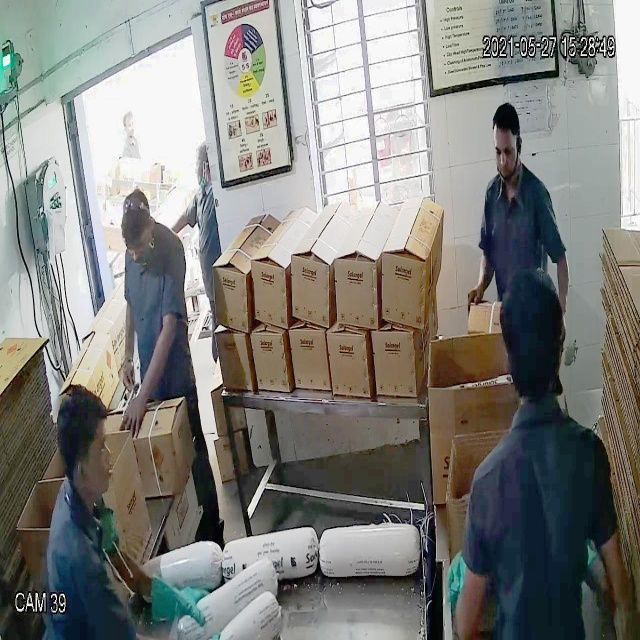Sin_gafas: (488, 135, 523, 168)
